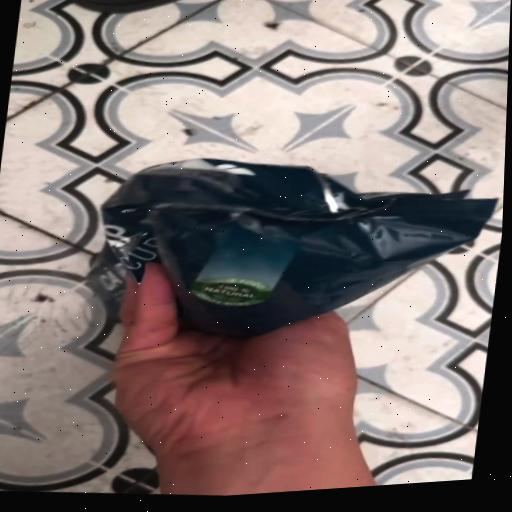cafe_hat: (101, 159, 496, 337)
